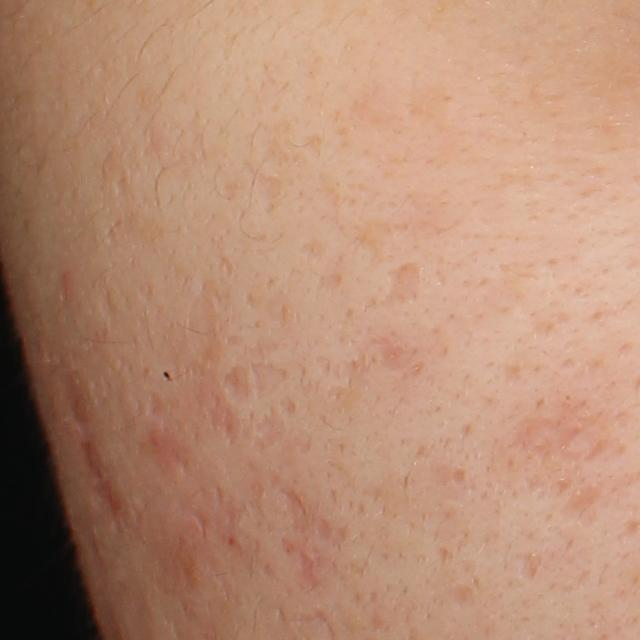atrophic_scar: (505, 398, 593, 469), (360, 256, 425, 316), (556, 477, 608, 525), (249, 165, 287, 215), (277, 486, 314, 536), (374, 339, 418, 378), (221, 362, 251, 411), (293, 550, 324, 594), (507, 549, 540, 583), (444, 584, 479, 607), (218, 256, 234, 275)
